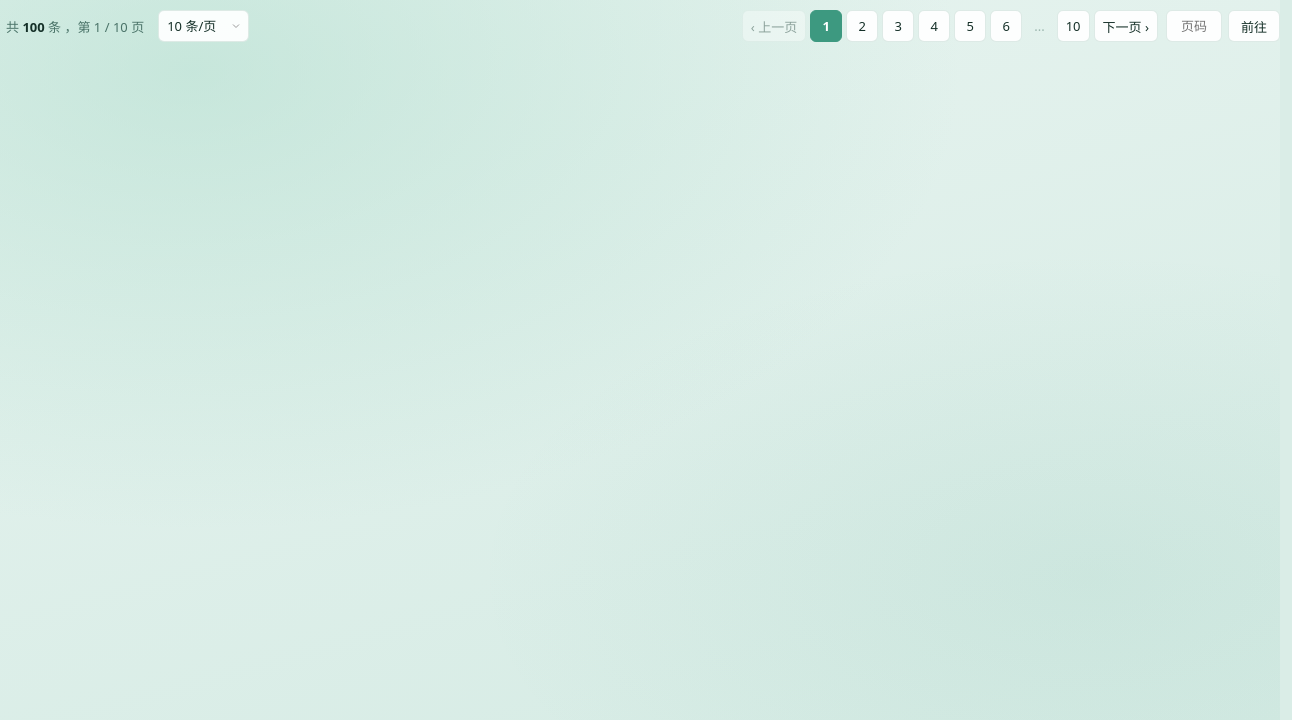
Test case: PaginationBar › 输入验证 › 输入0显示"页码不能小于1"
Type "0" into the field with placeholder "页码" at (1194,26), box [1166,10,1222,42]
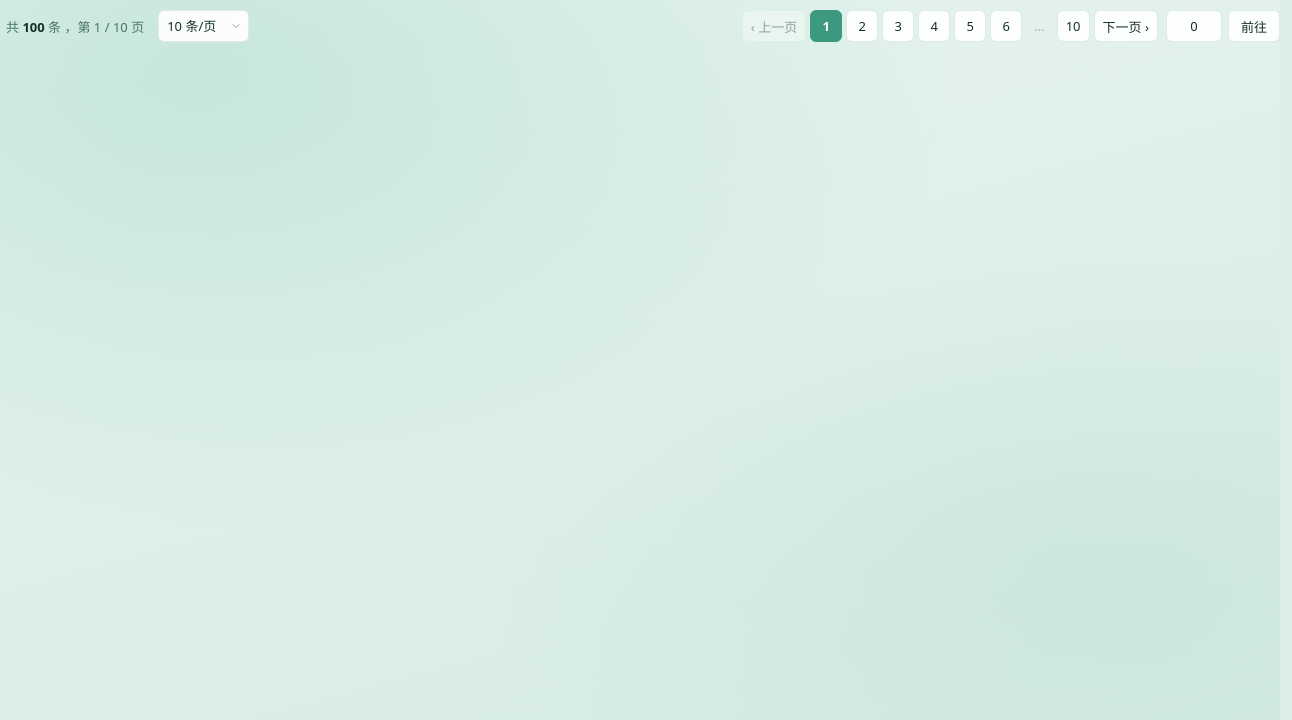
Click the button "前往" at (1254,26), box [1228,10,1280,42]
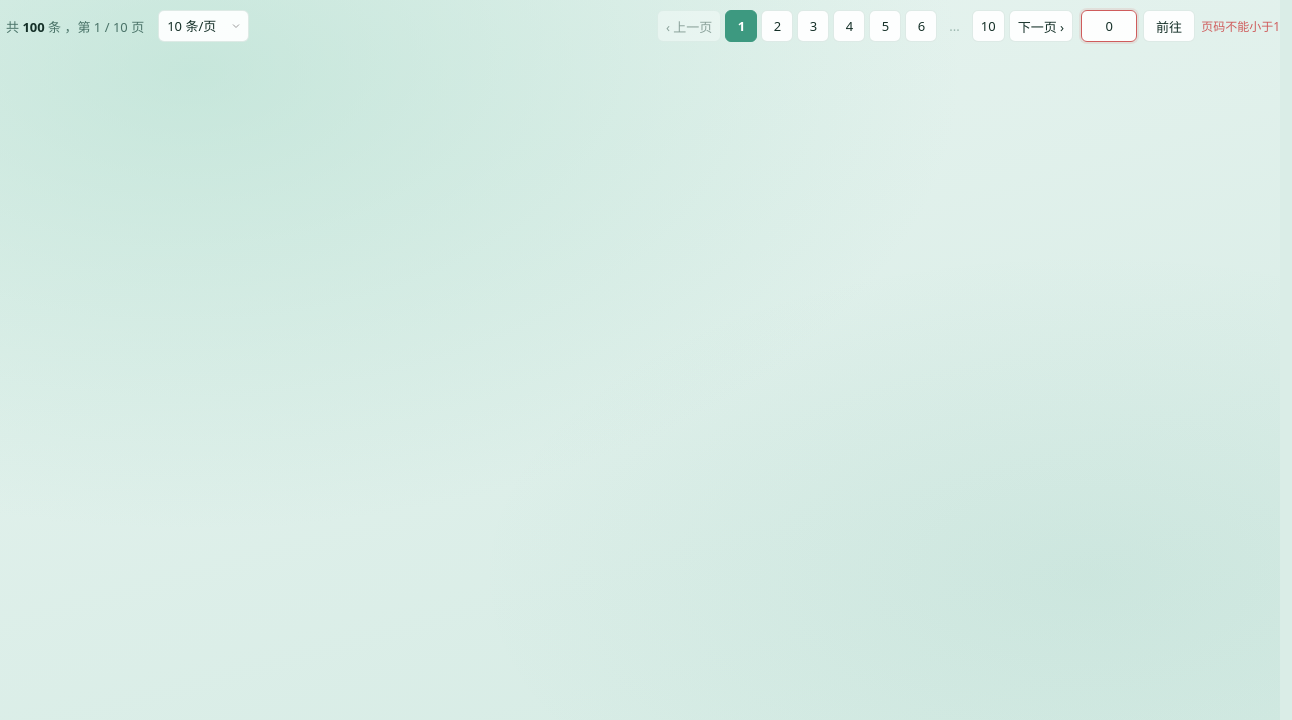
Result: the message with class "jump-error" reads "页码不能小于1" at [1201,18,1280,35]
